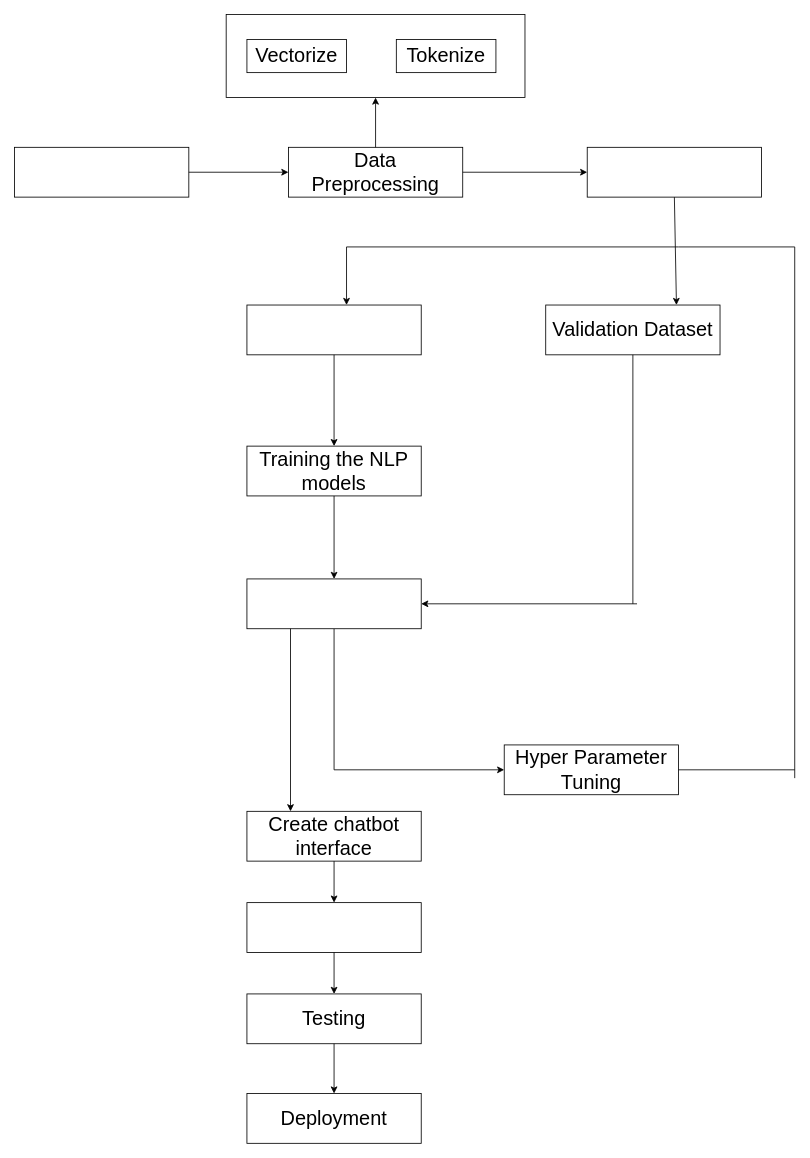
Image size: 810x1158. Some labels were removed from this diagram. Each missing label, with the centre of its shape:
Data Collection: pixel 101 171
Data Splitting: pixel 674 171
Integrate model with chatbot: pixel 333 927
Model Evaluation and Selection: pixel 333 603
Training Dataset: pixel 333 329
